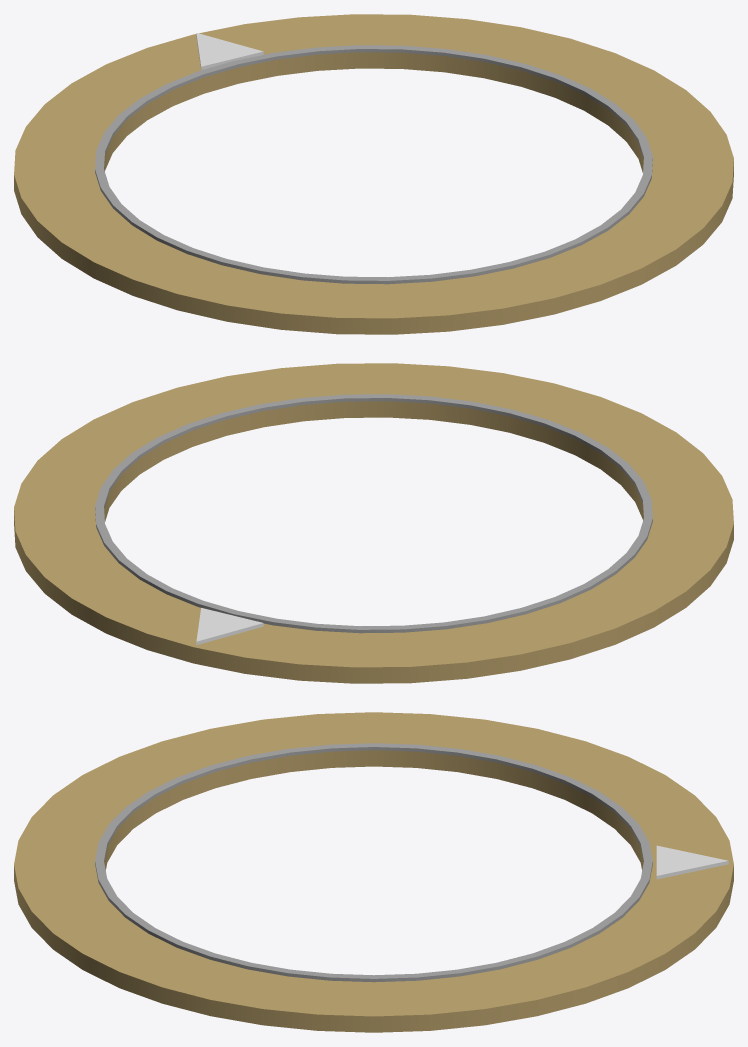
File: WhiteRing.fbx
The picture shows the model from 3 angles, top to bottom: view 1: azimuth 30°, elevation 25°; view 2: azimuth 150°, elevation 25°; view 3: azimuth 270°, elevation 25°; orthographic projection.
Visible parts, largest first — view 1: pCube7; view 2: pCube7; view 3: pCube7.
Boxes of the visible parts, bbox=[...] form: pCube7: bbox=[14, 14, 733, 334]; pCube7: bbox=[14, 363, 733, 683]; pCube7: bbox=[14, 712, 733, 1032].
Bounding box in the file's own units: 0.8 × 0.0244 × 0.8.
